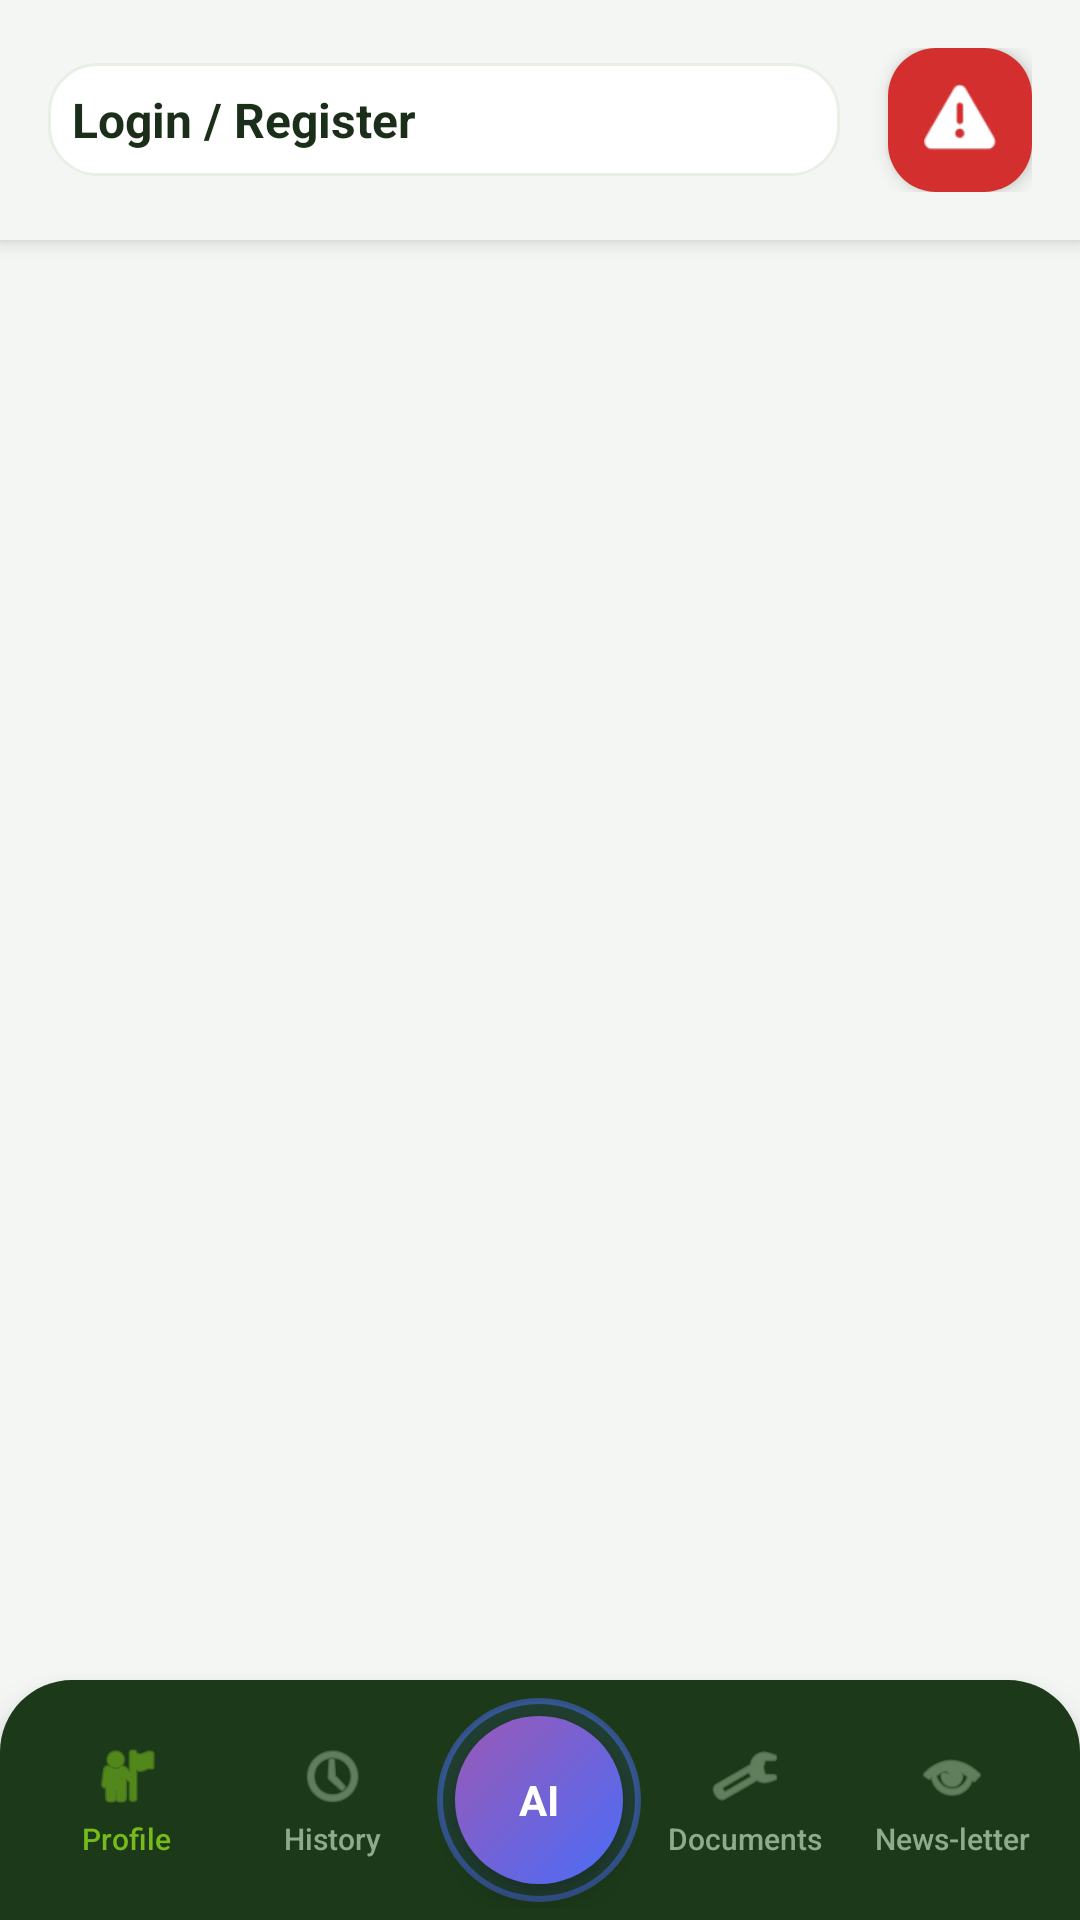

Where icons sit on this 1080px×1920px app screen, as Rect(x1, y1, x2, y2):
alert: Rect(924, 84, 996, 150)
manage: Rect(713, 1751, 777, 1800)
myplaces: Rect(101, 1749, 155, 1803)
pulse ring: Rect(437, 1698, 641, 1902)
view: Rect(923, 1760, 981, 1796)
